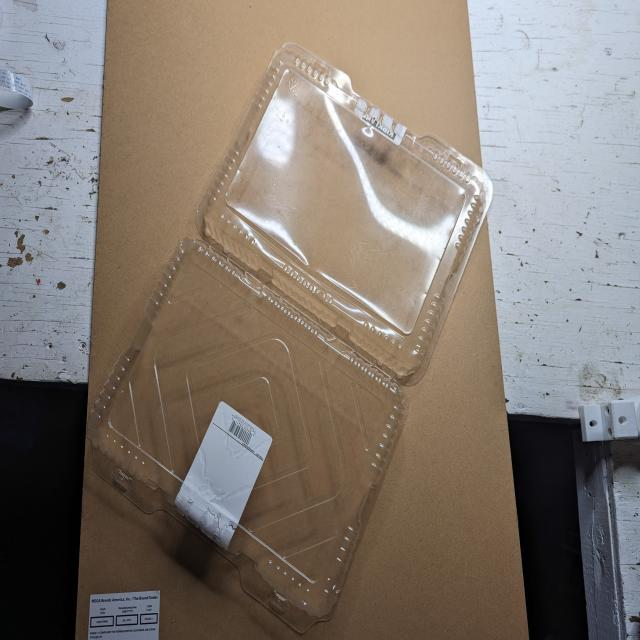Clamshell: (61, 29, 504, 640)
Label: (169, 397, 276, 554)
